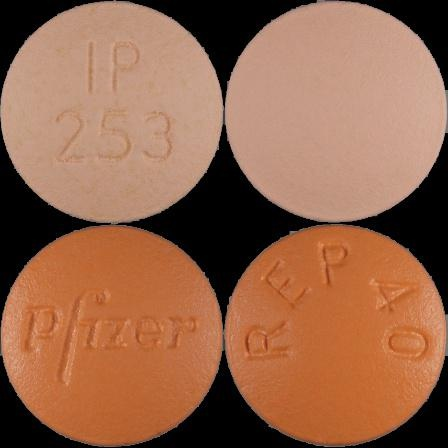16590-200: (0, 0, 224, 224)
